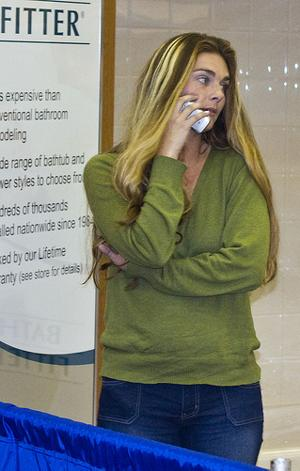person: (85, 30, 271, 470)
